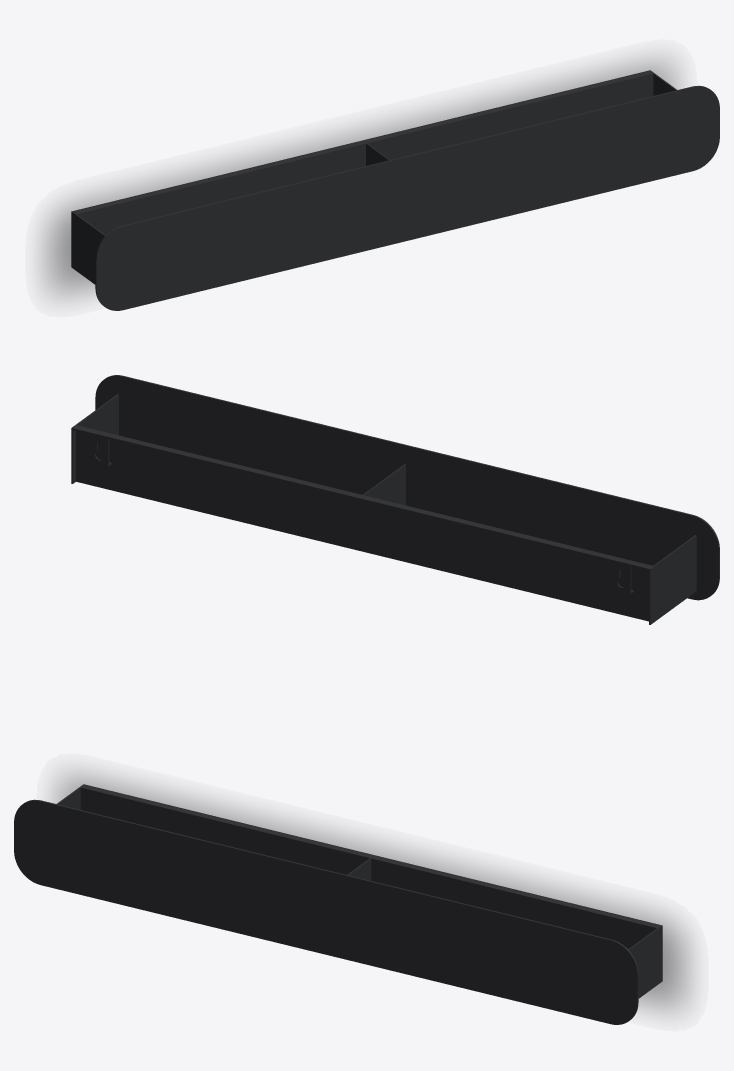
The model's file is radius-mono.c10a48ba25.ar.glb.
3 renders of one model, top to bottom at view 1: azimuth 30°, elevation 25°; view 2: azimuth 150°, elevation 25°; view 3: azimuth 330°, elevation 25°, orthographic.
Parts seen in each view (by area): view 1: NAUO1, object 2; view 2: NAUO1; view 3: NAUO1, object 2.
Boxes of the visible parts, left/top/right/bottom form: NAUO1: left=71, top=70, right=719, bottom=310; object 2: left=42, top=59, right=679, bottom=297; NAUO1: left=71, top=375, right=719, bottom=624; NAUO1: left=14, top=784, right=662, bottom=1024; object 2: left=54, top=773, right=691, bottom=1011.
Size of the model in its own units: 0.78 by 0.17 by 0.092.
Materials: 2 (1 with a texture image).
